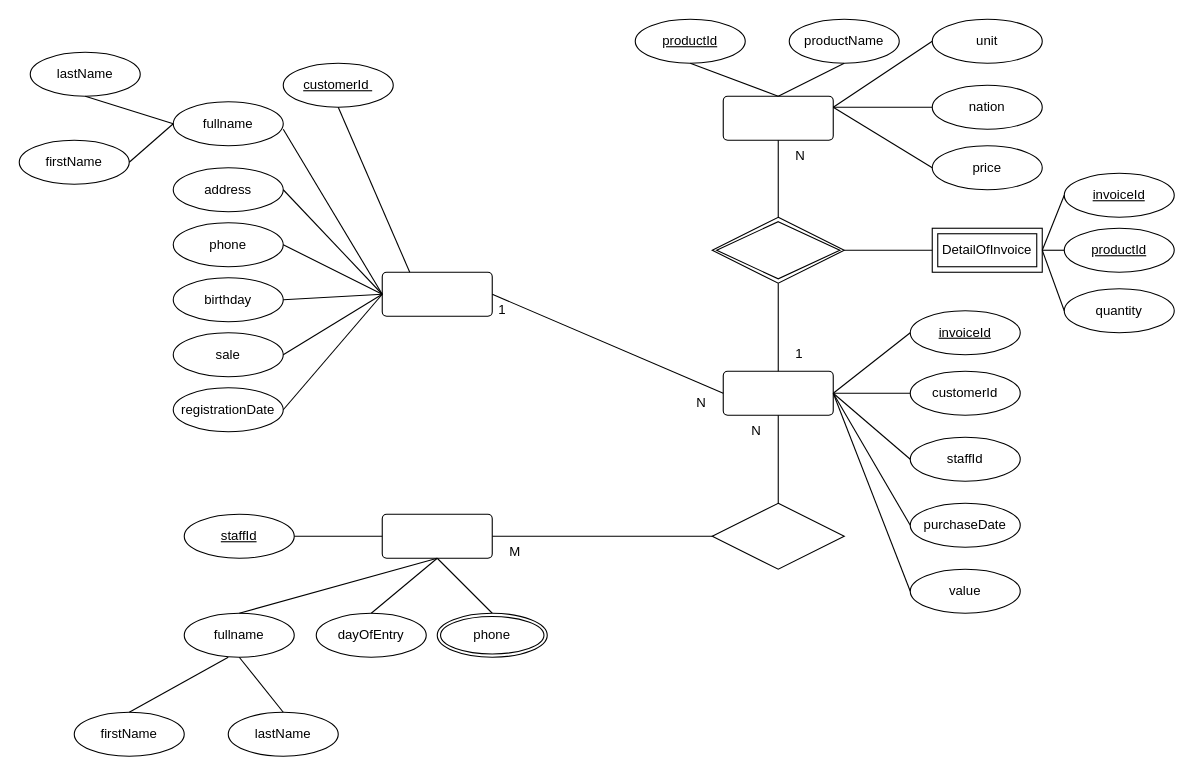
Image size: 1194x776. Some labels were removed from this diagram. The shapes that lost their labels are listed below. From the top down, each one's centre as x and y in pixels, then its label:
At pixel 777 117: "Product".
At pixel 777 249: "Manage Sold Product".
At pixel 436 293: "Customers".
At pixel 777 392: "Invoice".
At pixel 436 535: "Staff".
At pixel 777 535: "Handle".
